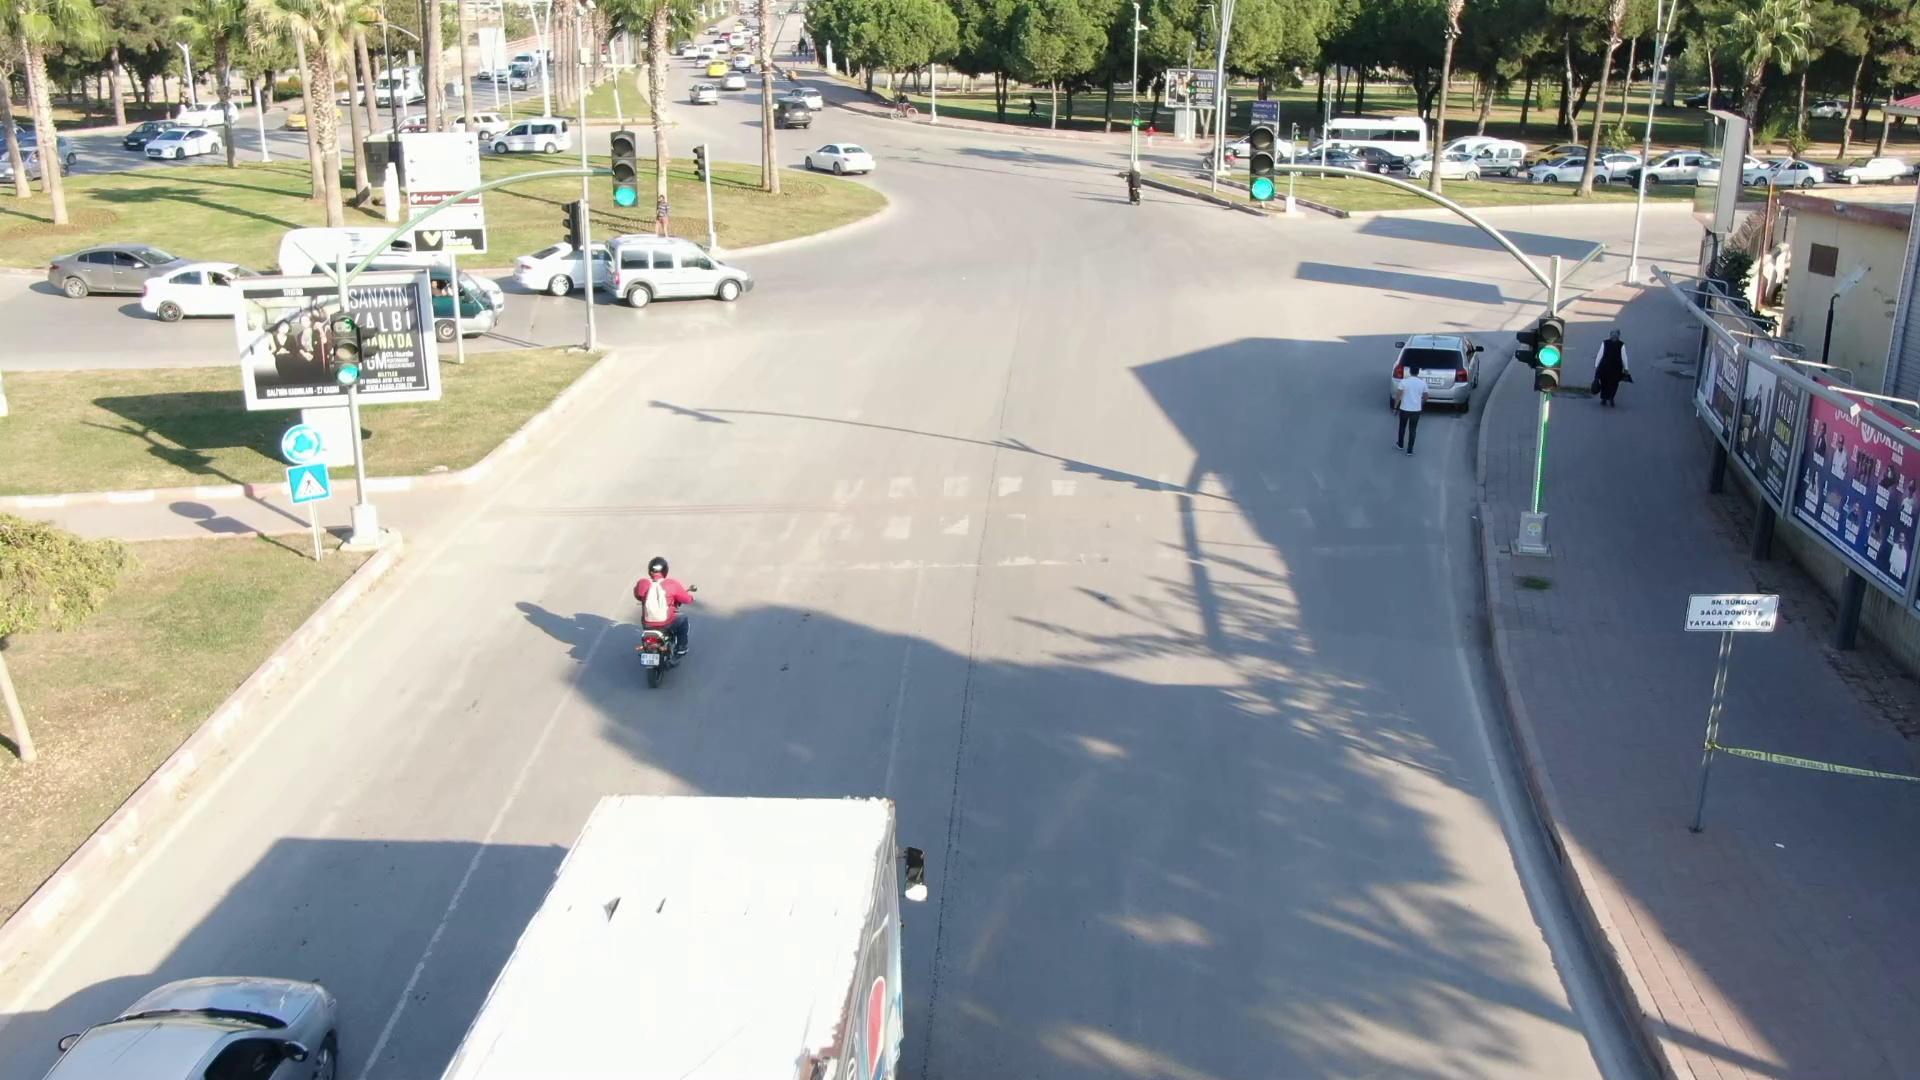car: (56, 227, 226, 326), (598, 229, 765, 315), (797, 129, 883, 184), (486, 112, 582, 161), (141, 123, 231, 169), (685, 78, 724, 107)
person: (621, 543, 715, 665), (1589, 317, 1645, 414), (1388, 358, 1436, 463)
